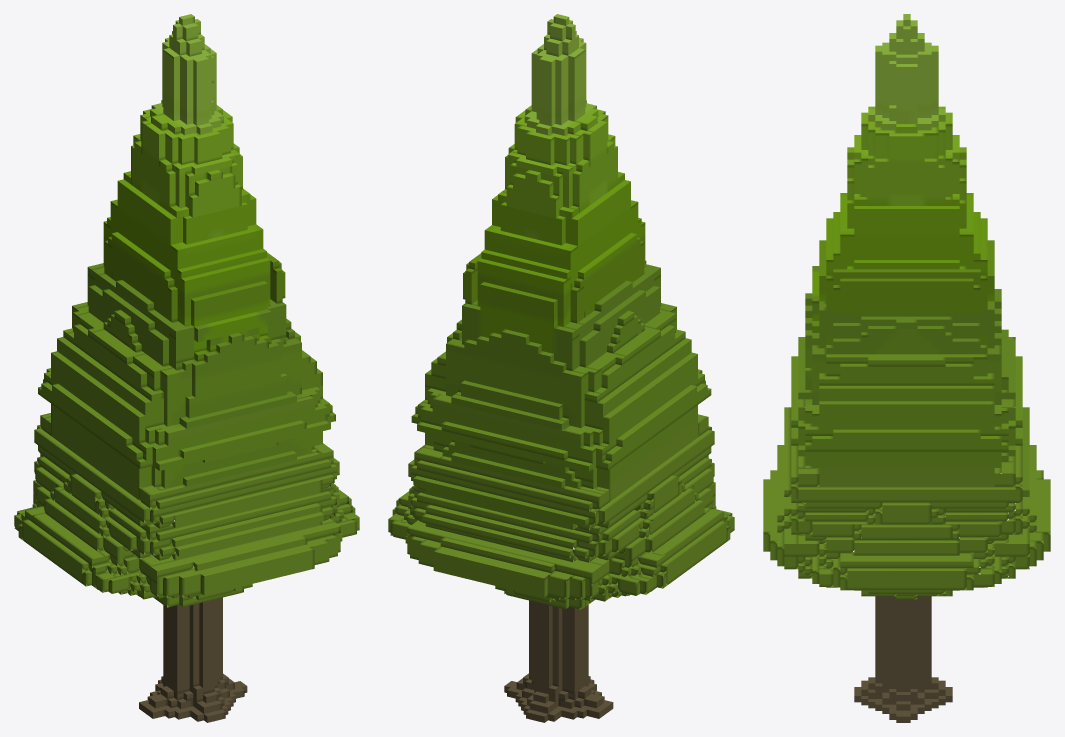
The model's file is pine_tree_spring.fbx.
3 views of the same model, side by side, from view 1: azimuth 30°, elevation 25°; view 2: azimuth 150°, elevation 25°; view 3: azimuth 270°, elevation 25° (orthographic).
Visible parts, largest first — view 1: pine_tree_spring; view 2: pine_tree_spring; view 3: pine_tree_spring.
Part boxes in pixels (box(x1,y1,x2,y2)): pine_tree_spring: box(14, 14, 359, 722); pine_tree_spring: box(388, 14, 734, 722); pine_tree_spring: box(763, 14, 1050, 722).
Size of the model in its own units: 516 by 1254 by 481.
Materials: 1 (1 with a texture image).
